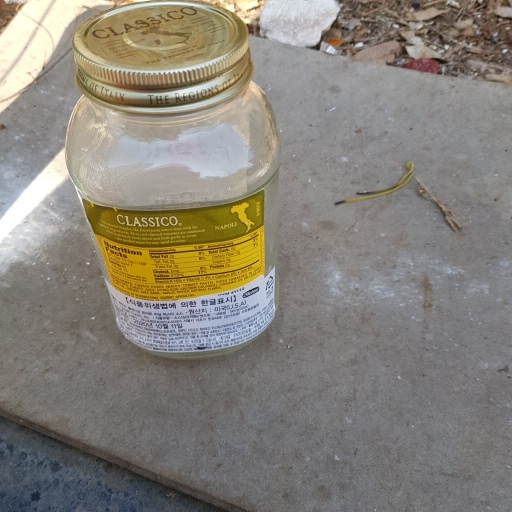Glass_5: (55, 1, 285, 362)
